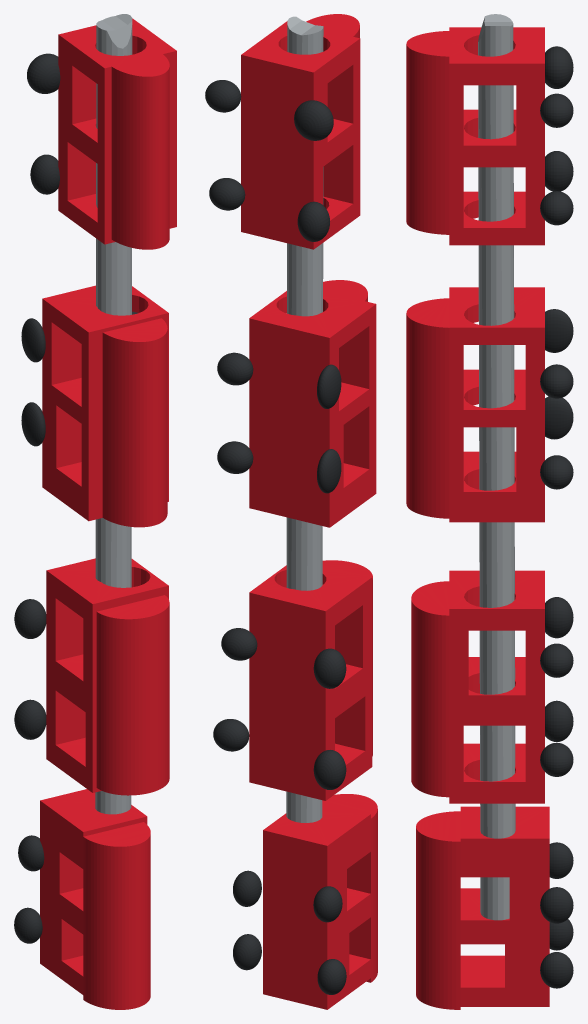
Rendered from tinker.obj.
The picture shows the model from 3 angles, left to right: view 1: azimuth 30°, elevation 25°; view 2: azimuth 150°, elevation 25°; view 3: azimuth 270°, elevation 25°; orthographic projection. The views are drawn at different scales.
Visible parts, largest first — view 1: group_0_15277357, group_0_2829873, group_0_10988977; view 2: group_0_15277357, group_0_2829873, group_0_10988977; view 3: group_0_15277357, group_0_10988977, group_0_2829873.
Part boxes in pixels (bbox=[...]): group_0_15277357: bbox=[40, 18, 176, 1009]; group_0_2829873: bbox=[14, 53, 138, 943]; group_0_10988977: bbox=[95, 14, 132, 814]; group_0_15277357: bbox=[241, 14, 377, 1009]; group_0_2829873: bbox=[205, 80, 346, 994]; group_0_10988977: bbox=[286, 16, 323, 822]; group_0_15277357: bbox=[406, 27, 549, 1009]; group_0_10988977: bbox=[478, 14, 515, 920]; group_0_2829873: bbox=[540, 46, 573, 988].
Bounding box in the file's own units: 34 × 228 × 35.
